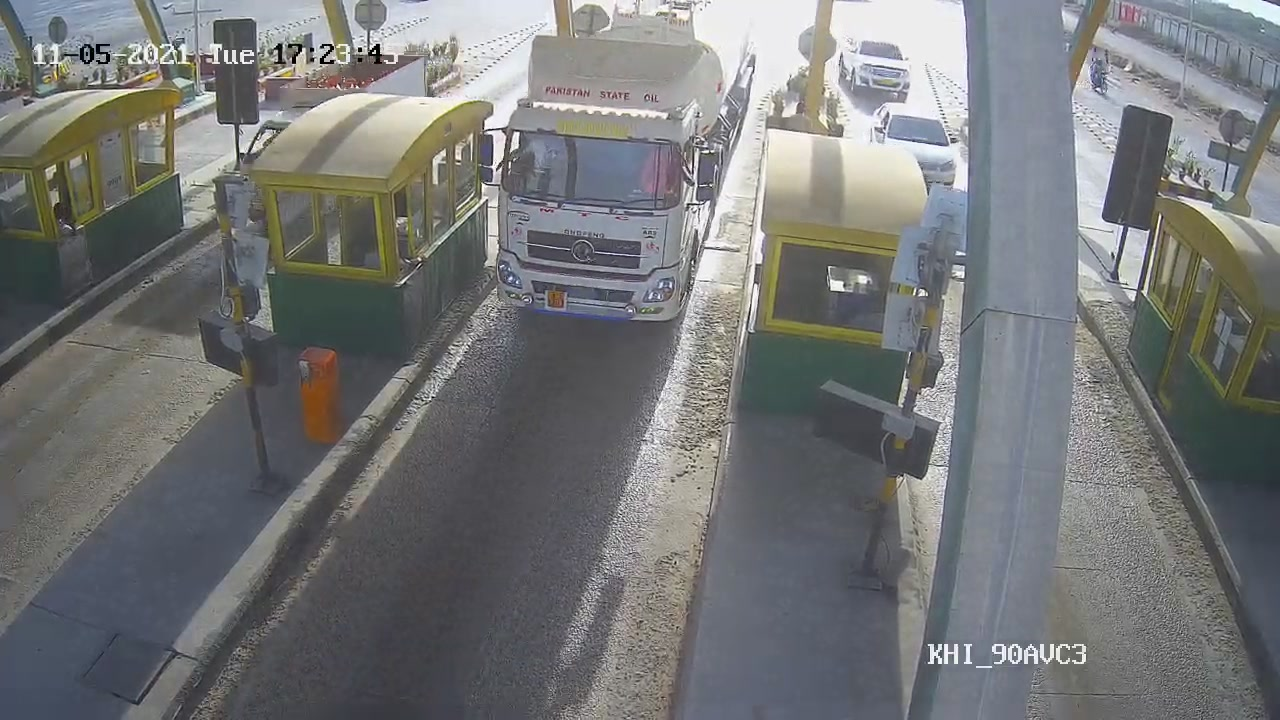F6: (490, 1, 759, 321)
